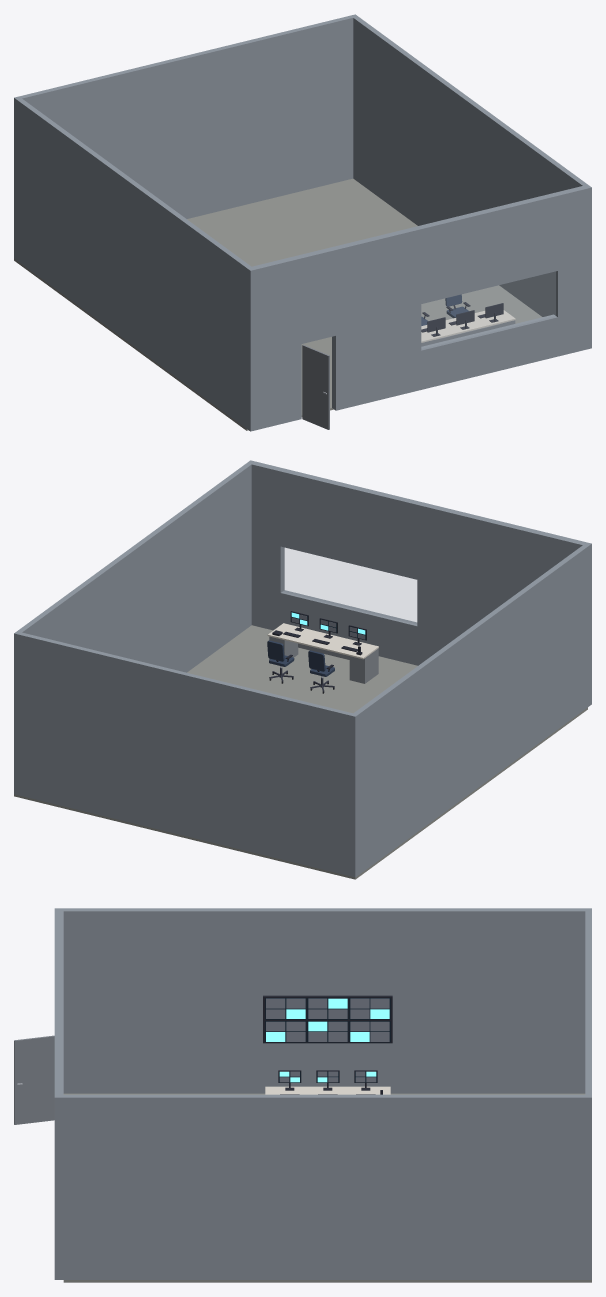
File: ind-005.glb
3 renders of one model, top to bottom at view 1: azimuth 30°, elevation 25°; view 2: azimuth 150°, elevation 25°; view 3: azimuth 270°, elevation 25°, orthographic. The views are drawn at different scales.
Visible parts, largest first — view 1: hangar_cladding, plant_floor, glass_clear, service_door, laminate, plastic_dark; view 2: hangar_cladding, plant_floor, glass_clear, laminate, service_door, chair_fabric, plastic_dark; view 3: hangar_cladding, locker_grey, service_door, plant_floor, plastic_dark, monitor_screen, pump_screen, laminate.
Boxes of the visible parts, left/top/right/bottom form: hangar_cladding: left=14, top=14, right=591, bottom=431; plant_floor: left=14, top=178, right=542, bottom=430; glass_clear: left=422, top=272, right=555, bottom=347; service_door: left=302, top=320, right=515, bottom=429; laminate: left=421, top=310, right=515, bottom=342; plastic_dark: left=421, top=302, right=503, bottom=336; hangar_cladding: left=14, top=460, right=591, bottom=877; plant_floor: left=14, top=625, right=587, bottom=879; glass_clear: left=283, top=547, right=416, bottom=623; laminate: left=267, top=623, right=378, bottom=659; service_door: left=269, top=636, right=378, bottom=683; chair_fabric: left=267, top=640, right=334, bottom=676; plastic_dark: left=272, top=611, right=366, bottom=671; hangar_cladding: left=54, top=908, right=591, bottom=1279; locker_grey: left=266, top=998, right=389, bottom=1082; service_door: left=14, top=1035, right=54, bottom=1124; plant_floor: left=63, top=1093, right=591, bottom=1282; plastic_dark: left=263, top=995, right=392, bottom=1094; monitor_screen: left=265, top=998, right=390, bottom=1082; pump_screen: left=266, top=998, right=389, bottom=1082; laminate: left=265, top=1086, right=390, bottom=1094.
Bounding box in the file's own units: 10 × 4.56 × 12.91.
